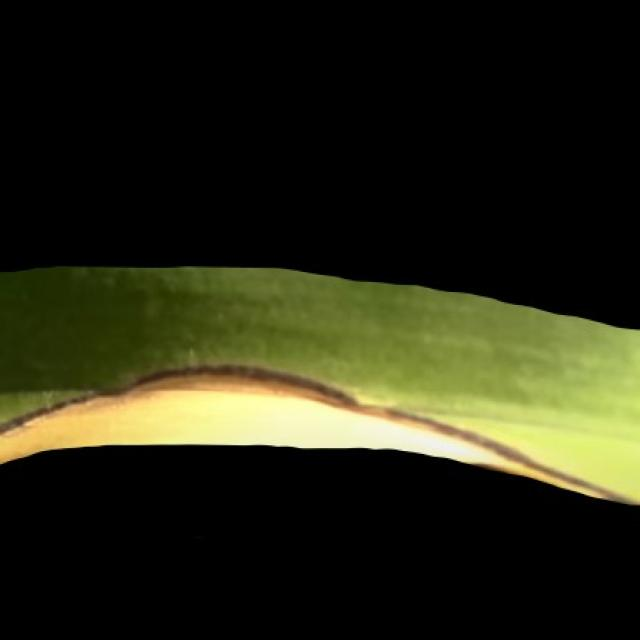mite: (0, 384, 99, 438), (318, 381, 359, 408), (176, 342, 202, 367)
sunburn: (0, 358, 639, 511)
